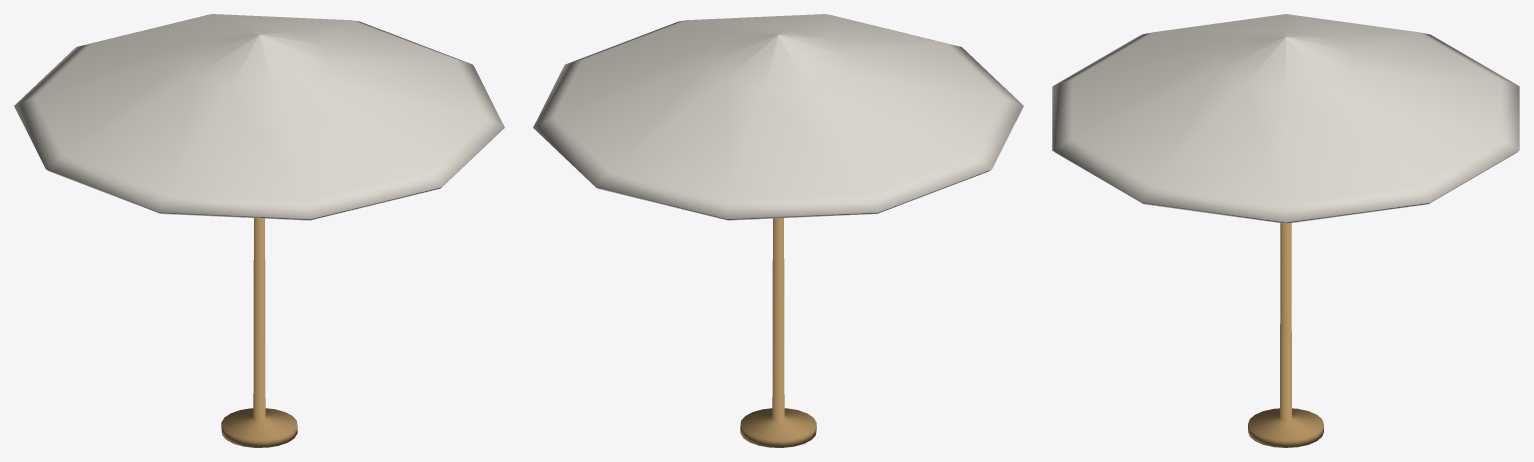
Rendered from parasol.glb.
3 views of the same model, side by side, from view 1: azimuth 30°, elevation 25°; view 2: azimuth 150°, elevation 25°; view 3: azimuth 270°, elevation 25° (orthographic).
Visible parts, largest first — view 1: parasol_canopy, parasol_post; view 2: parasol_canopy, parasol_post; view 3: parasol_canopy, parasol_post.
Part boxes in pixels (box(x1,y1,x2,y2)): parasol_canopy: box(14, 14, 504, 220); parasol_post: box(221, 218, 297, 447); parasol_canopy: box(533, 14, 1023, 220); parasol_post: box(740, 218, 816, 447); parasol_canopy: box(1052, 14, 1519, 223); parasol_post: box(1248, 223, 1323, 447).
Bounding box in the file's own units: 2.84 × 2.52 × 2.7.
